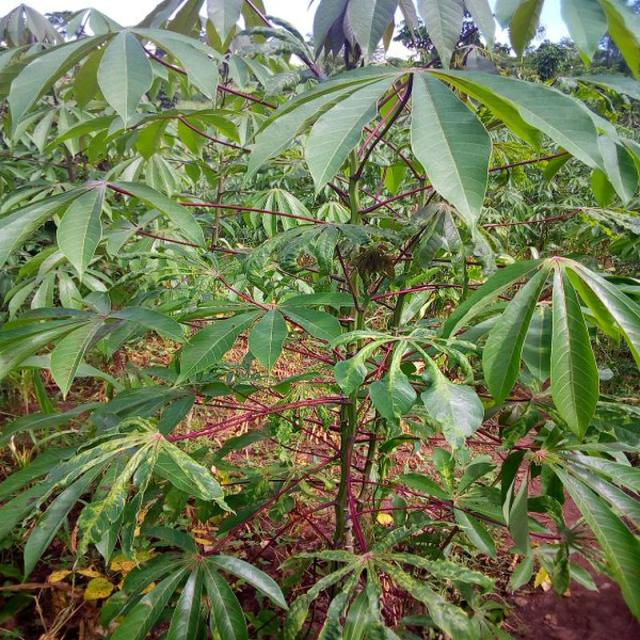cassava leaf: (409, 68, 492, 230), (549, 264, 599, 440), (96, 28, 154, 130)
